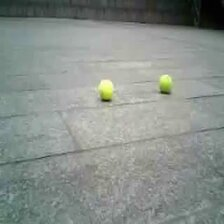tennis: (97, 80, 113, 98), (160, 75, 173, 92)
